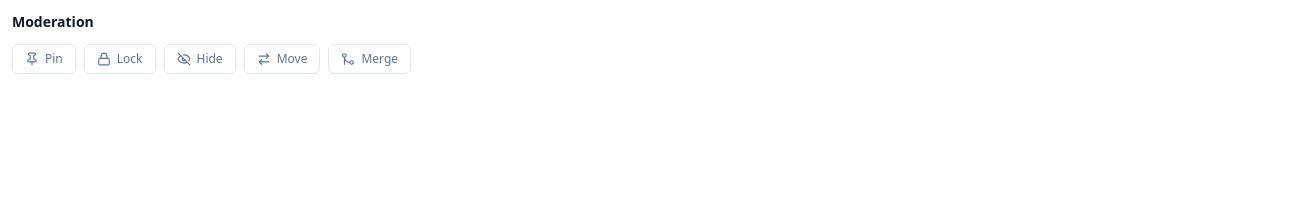
it: ModerationActions › closes move panel when merge is opened
Click the button with test id "action-move-toggle": (282,59) [244, 44, 320, 74]
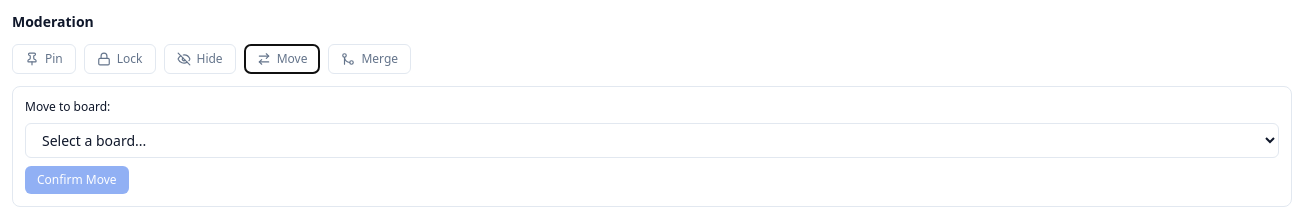
Expected: the element with test id "move-panel" is shown, [12, 86, 1291, 207]
Click the button with test id "action-merge-toggle": (370,59) [328, 44, 411, 74]
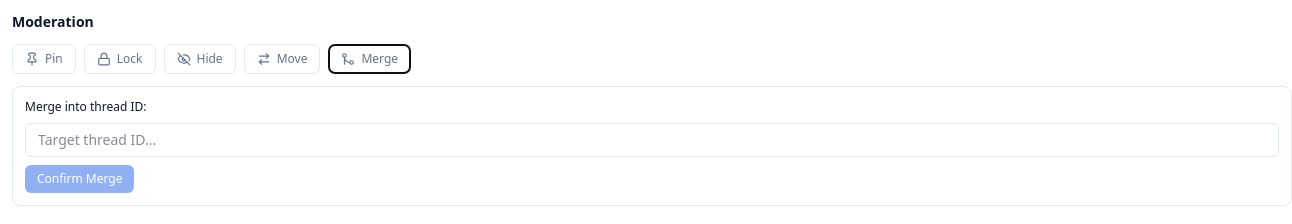
Expected: the element with test id "move-panel" is gone
Expected: the element with test id "merge-panel" is shown, [12, 86, 1291, 206]
